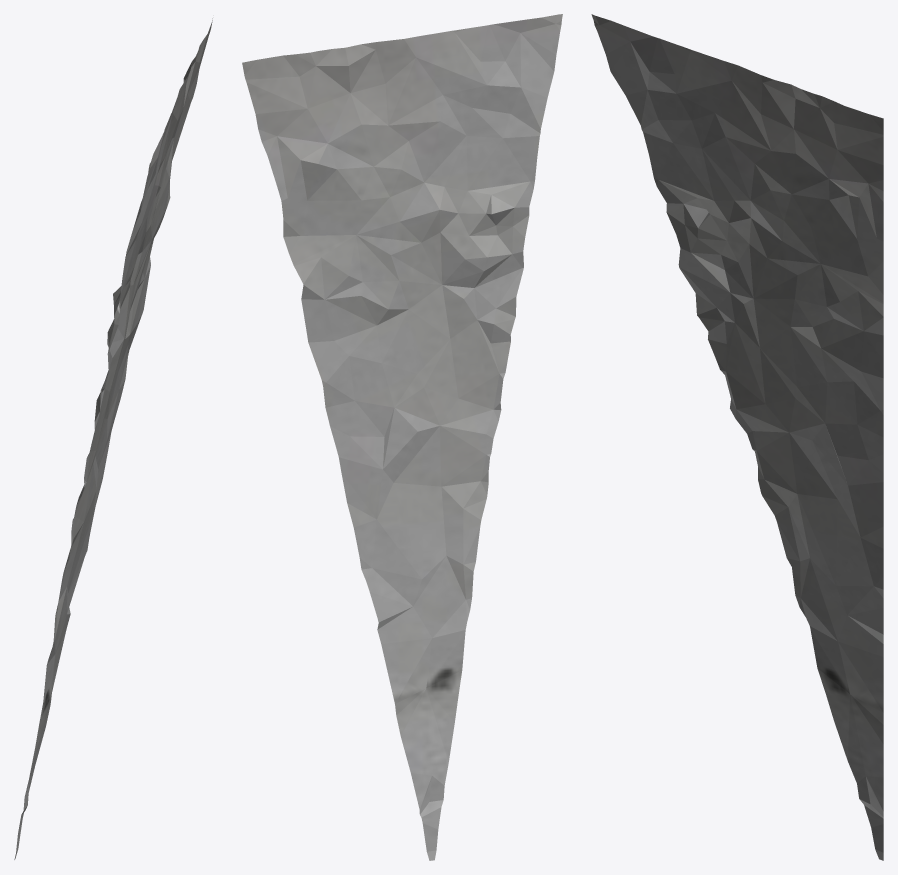
The picture shows the model from 3 angles, left to right: view 1: azimuth 30°, elevation 25°; view 2: azimuth 150°, elevation 25°; view 3: azimuth 270°, elevation 25°; orthographic projection. The views are drawn at different scales.
Size of the model in its own units: 0.2221 by 0.8373 by 0.2625.
Materials: 1 (1 with a texture image).
